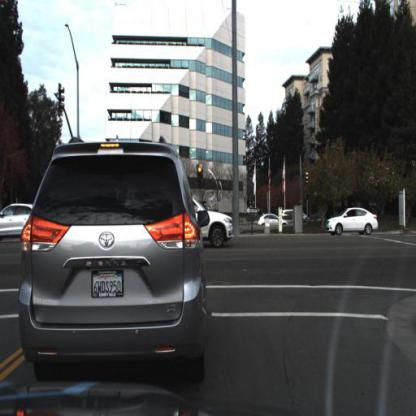car: (18, 135, 212, 378), (190, 195, 234, 249), (324, 206, 379, 239), (1, 202, 43, 244), (50, 211, 79, 244), (259, 213, 288, 229)
trafficLight-Red: (196, 161, 205, 190)
